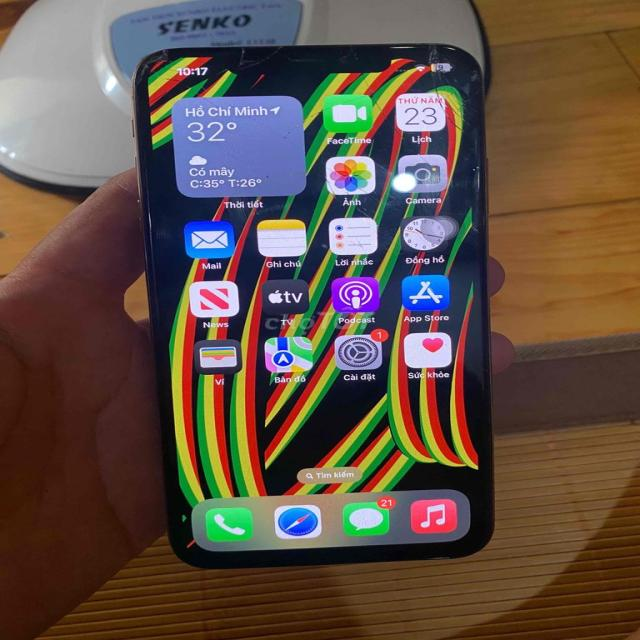physical_damage: (136, 45, 484, 248)
